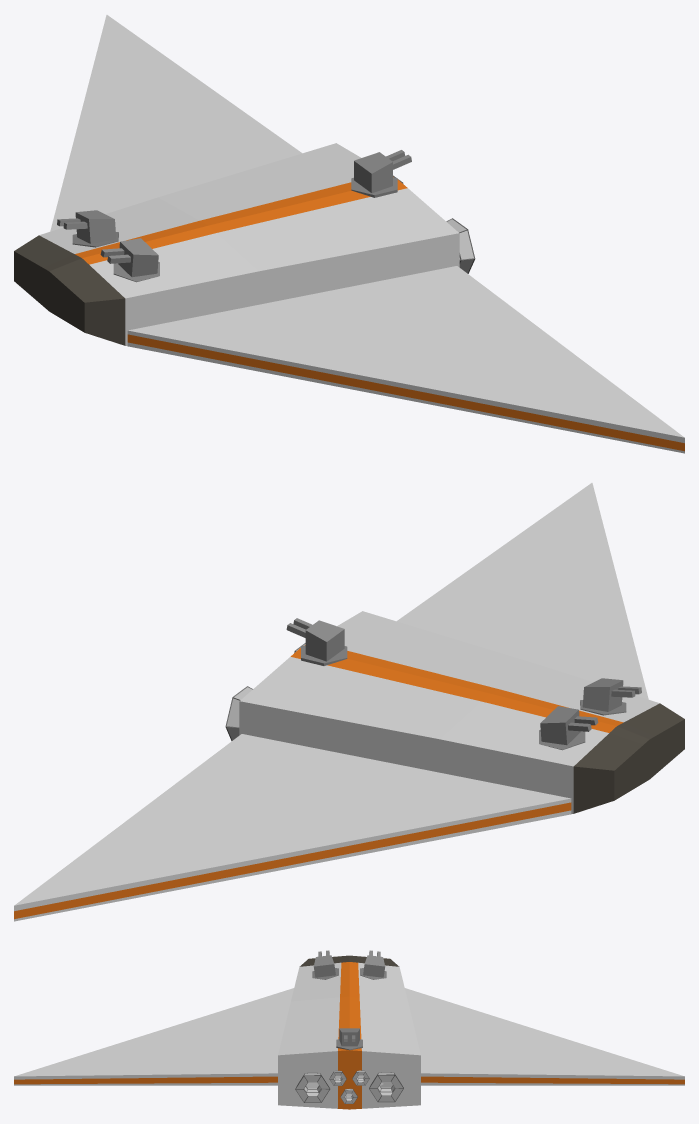
Rendered from defender_ship.fbx.
The picture shows the model from 3 angles, top to bottom: view 1: azimuth 30°, elevation 25°; view 2: azimuth 150°, elevation 25°; view 3: azimuth 270°, elevation 25°; orthographic projection. The views are drawn at different scales.
Visible parts, largest first — view 1: Cube, Cylinder; view 2: Cube; view 3: Cube, Cylinder.
Part boxes in pixels (left/top/right/bottom): Cube: left=14, top=15, right=684, bottom=453; Cylinder: left=393, top=175, right=475, bottom=273; Cube: left=14, top=483, right=684, bottom=921; Cube: left=14, top=950, right=684, bottom=1109; Cylinder: left=295, top=1070, right=403, bottom=1102.
Bounding box in the file's own units: 508 × 163 × 1340.
